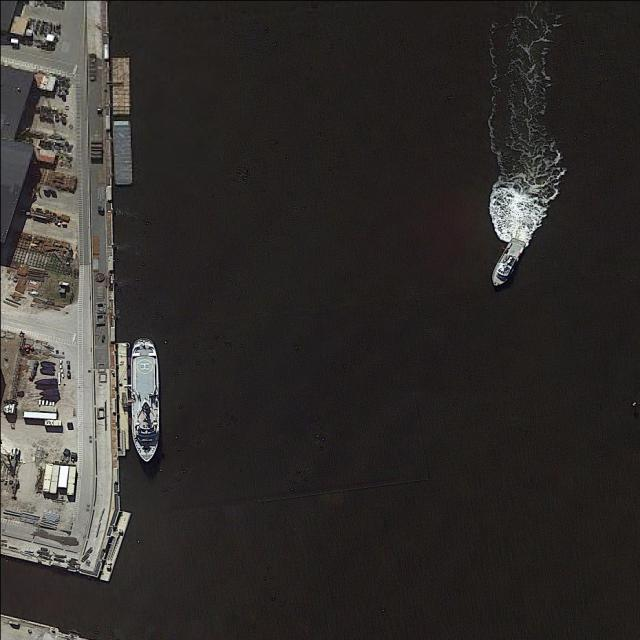Other Ship: (487, 236, 528, 290)
Yacht: (131, 340, 157, 462)
